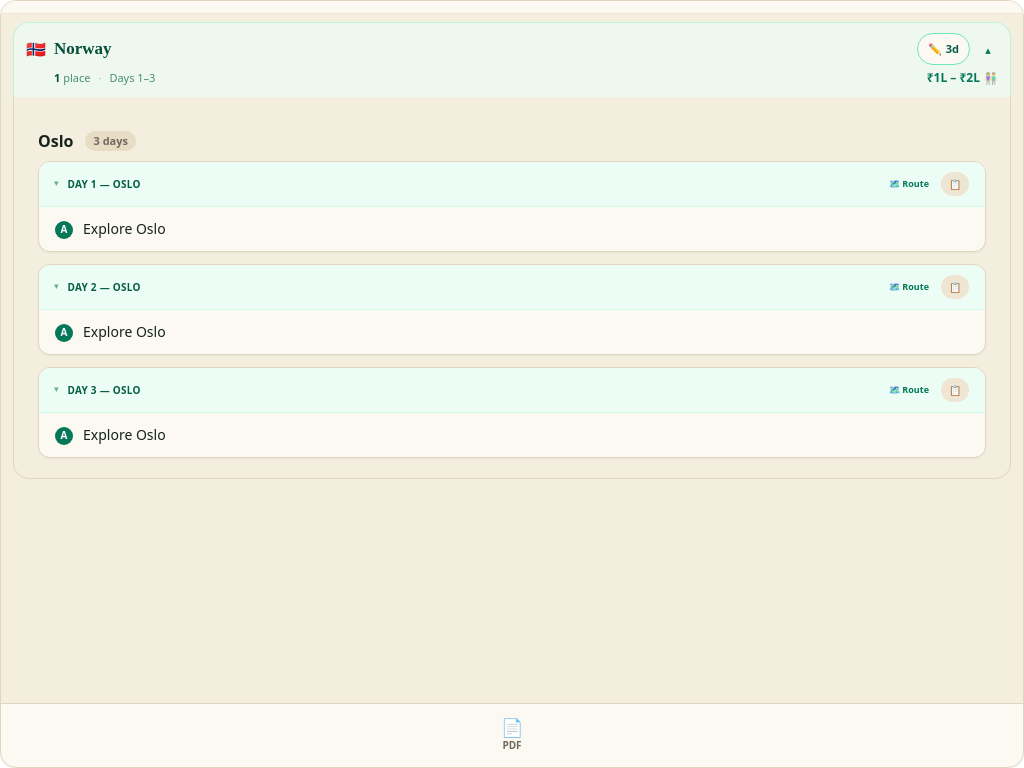
it: TripReviewCanvas › opens a stop's Adjust drawer on demand
Click the button named "Adjust Norway": point(943, 49) [917,33,970,65]
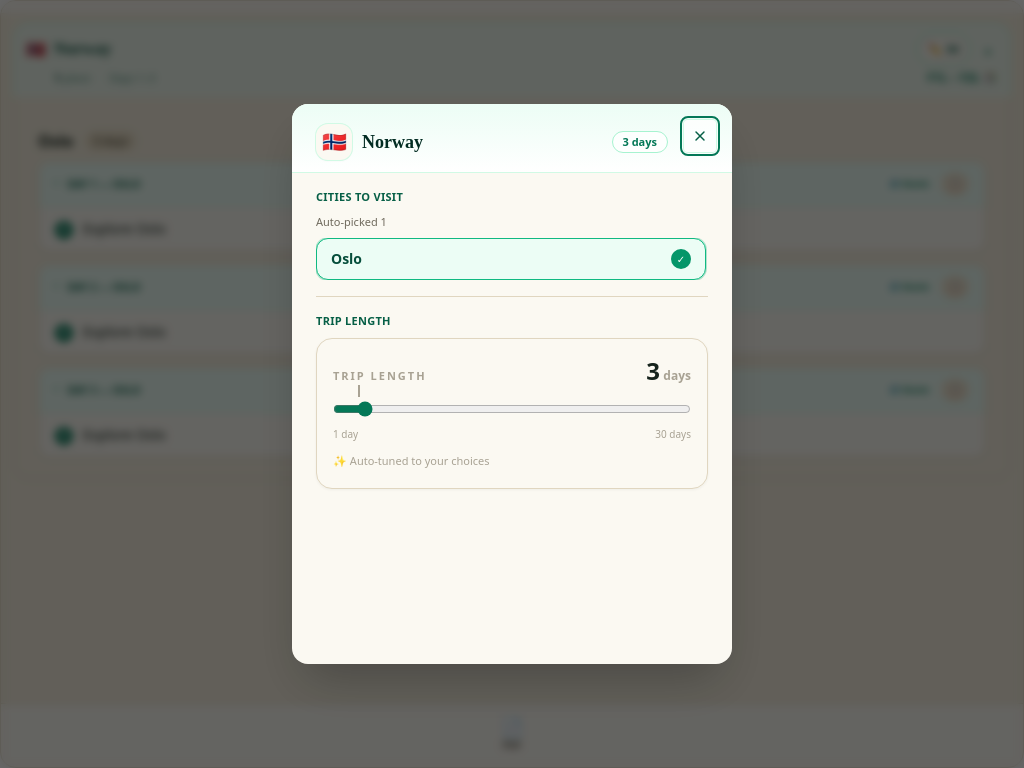
Now the dialog named "Adjust Norway" is shown, box [292,104,732,664]
